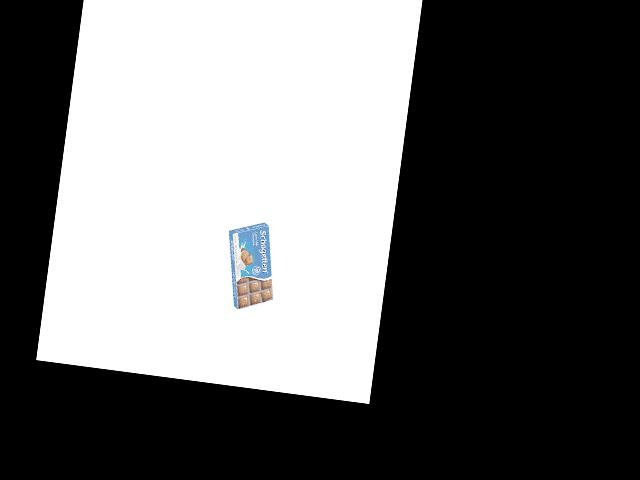chocolate: (225, 217, 283, 314)
